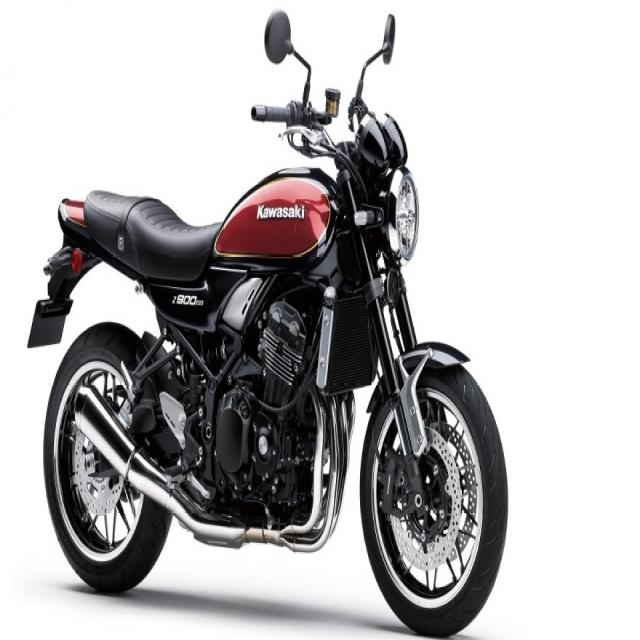Bike: (29, 11, 508, 634)
